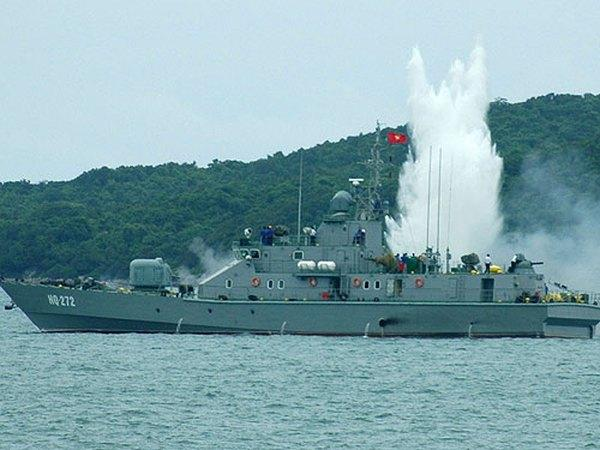MIL_Ship: (3, 173, 599, 337)
